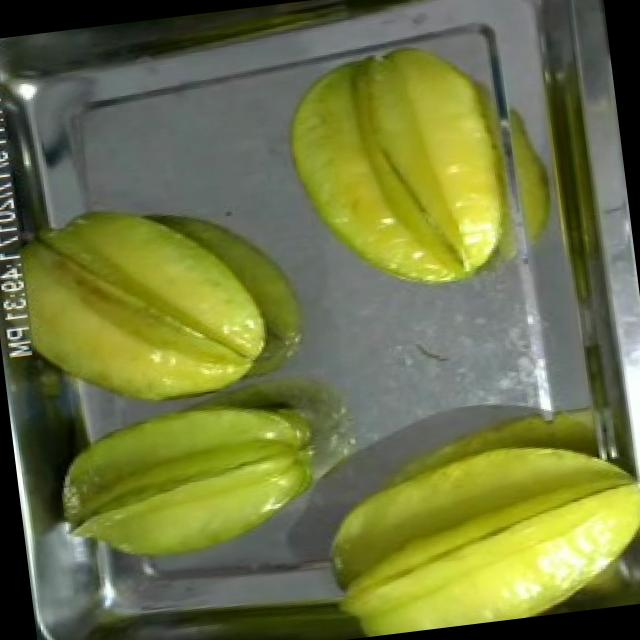fruit: (299, 414, 640, 640), (270, 24, 532, 310), (2, 176, 290, 432), (32, 364, 348, 588)
